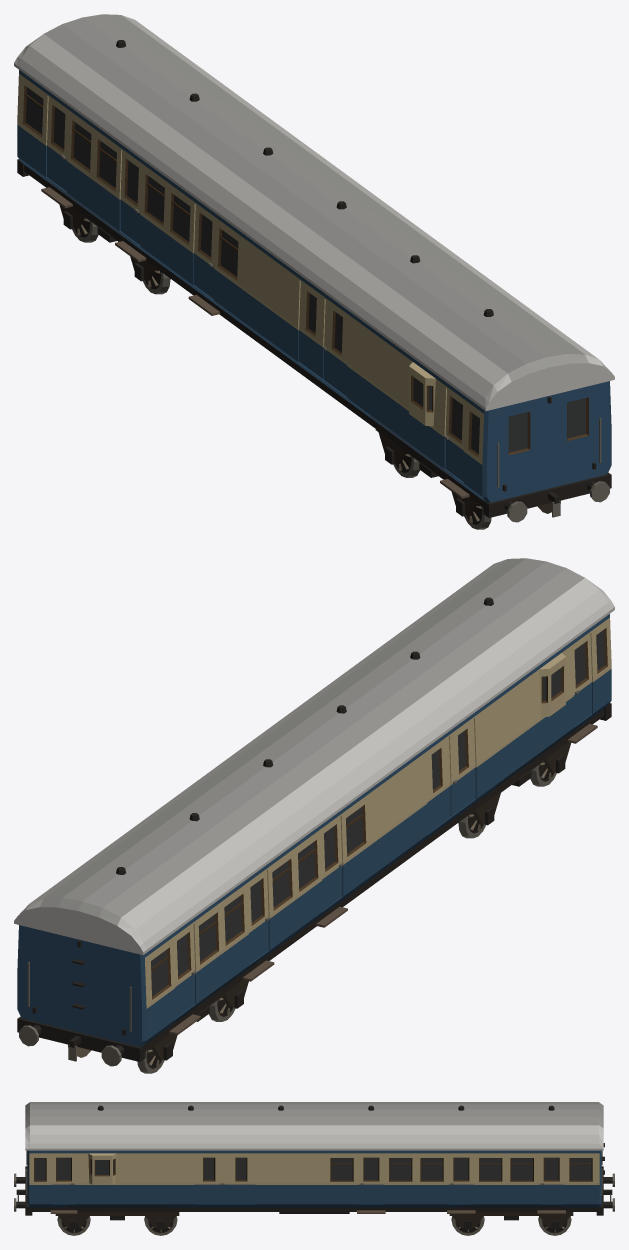
File: brake-coach-f83456.glb
The picture shows the model from 3 angles, top to bottom: view 1: azimuth 30°, elevation 25°; view 2: azimuth 150°, elevation 25°; view 3: azimuth 270°, elevation 25°; orthographic projection. The views are drawn at different scales.
Visible parts, largest first — view 1: body, bogie-f-frame, bogie-r-frame; view 2: body, bogie-f-frame, bogie-r-frame; view 3: body, bogie-f-frame, bogie-r-frame, wheel-f1-set, wheel-r2-set, wheel-f2-set, wheel-r1-set.
Part boxes in pixels (x1,y1,x2,y2): body: [14, 14, 614, 522]; bogie-f-frame: [375, 429, 477, 516]; bogie-r-frame: [59, 204, 156, 281]; body: [14, 558, 614, 1066]; bogie-f-frame: [472, 742, 570, 825]; bogie-r-frame: [151, 980, 248, 1060]; body: [14, 1102, 614, 1215]; bogie-f-frame: [55, 1212, 179, 1229]; bogie-r-frame: [449, 1212, 573, 1229]; wheel-f1-set: [57, 1216, 90, 1235]; wheel-r2-set: [538, 1216, 571, 1235]; wheel-f2-set: [144, 1216, 177, 1235]; wheel-r1-set: [451, 1216, 484, 1235].
Bounding box in the file's own units: 2.98 × 3.92 × 18.
